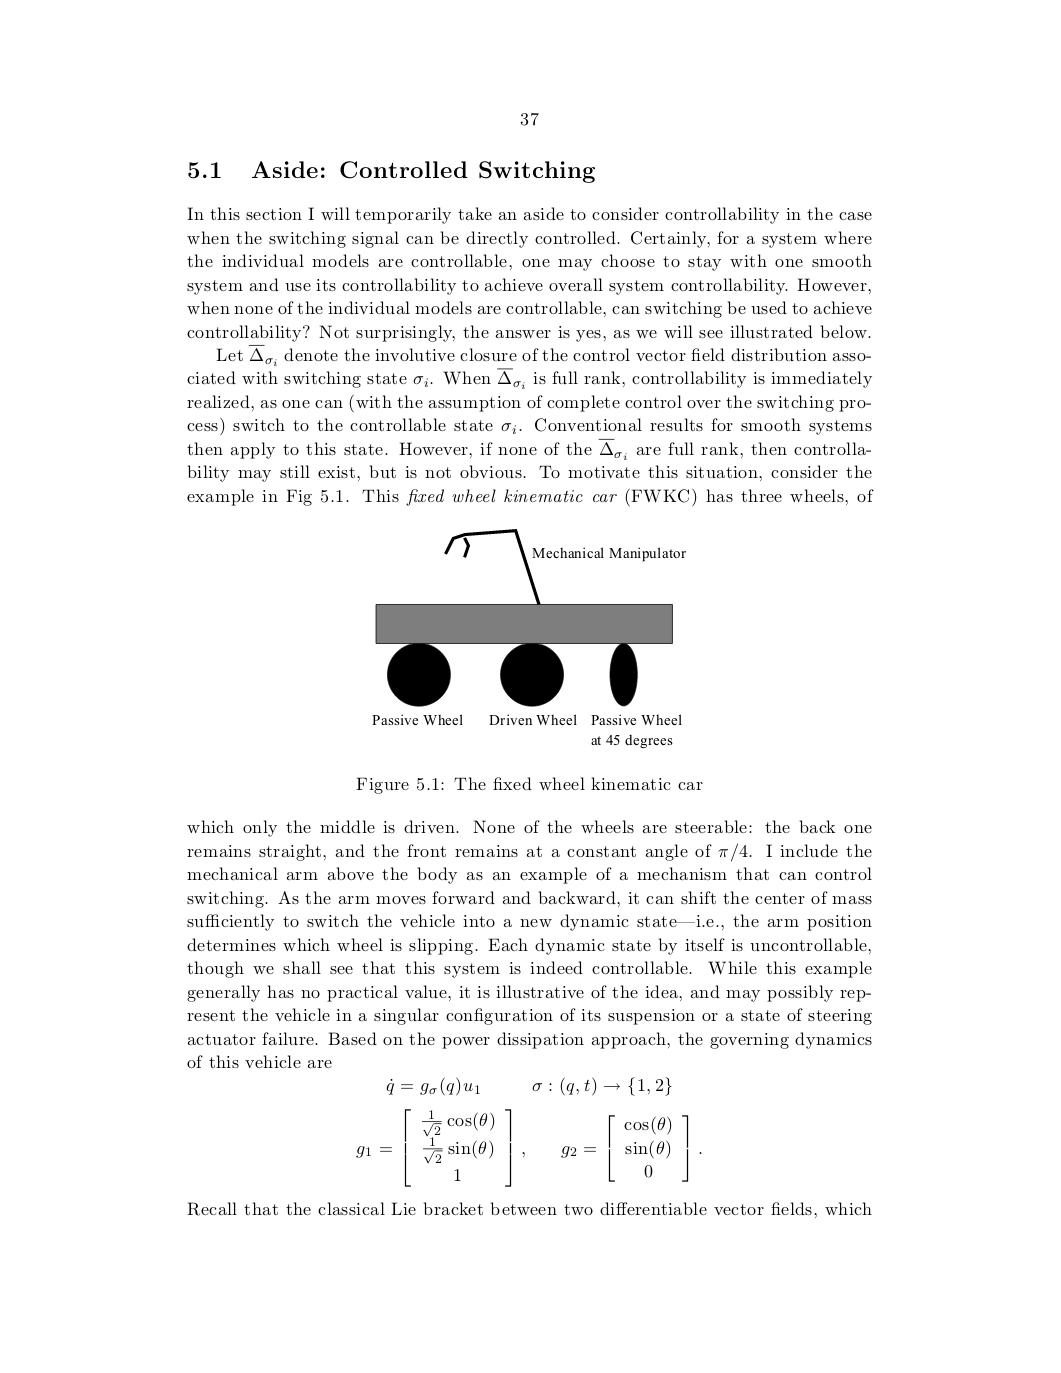figure: (372, 529, 685, 748)
formula: (356, 1108, 701, 1187), (386, 1077, 671, 1096)
